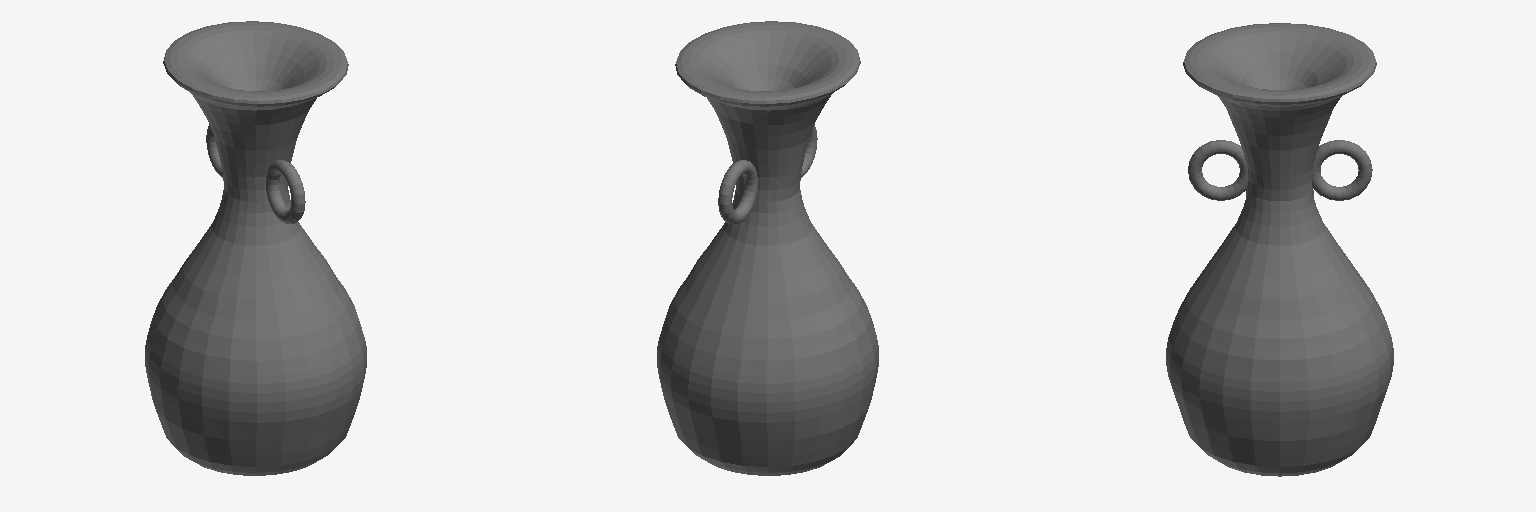
Rendered from Vase1.obj.
The picture shows the model from 3 angles: view 1: azimuth 30°, elevation 25°; view 2: azimuth 150°, elevation 25°; view 3: azimuth 270°, elevation 25°; orthographic projection.
Parts seen in each view (by area): view 1: pTorus7; view 2: pTorus7; view 3: pTorus7.
Boxes of the visible parts, x1,y1,x2,y2 form: pTorus7: [145, 21, 366, 475]; pTorus7: [657, 21, 878, 475]; pTorus7: [1166, 23, 1393, 476].
Size of the model in its own units: 34.88 by 68.38 by 35.98.